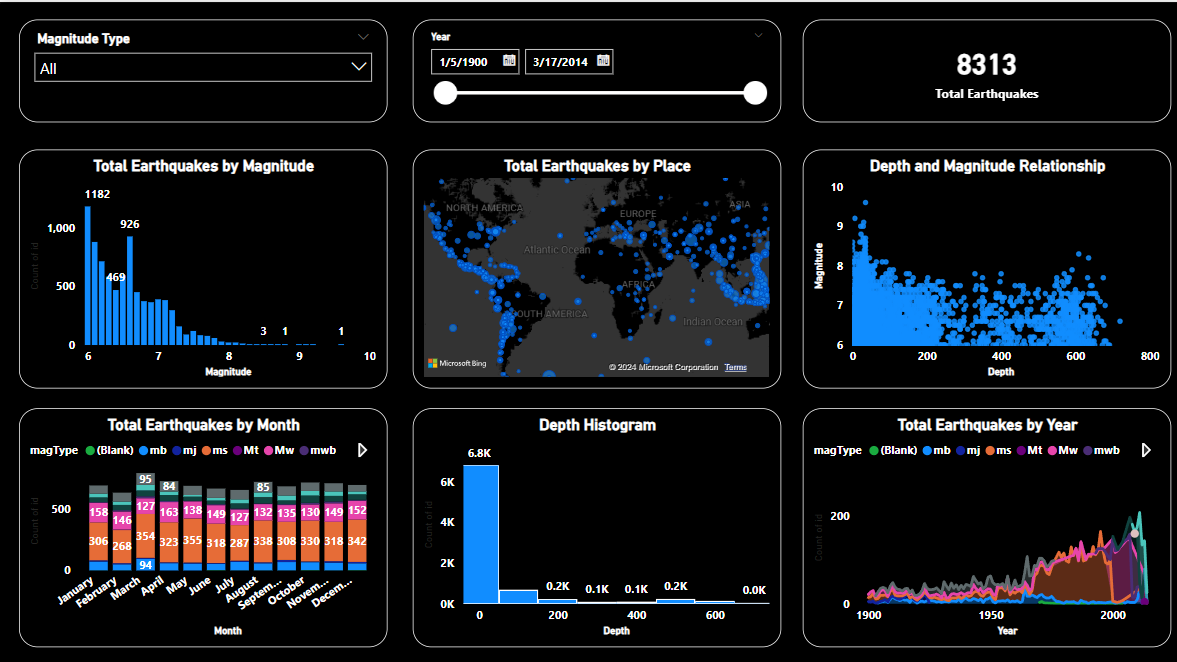

This screenshot's page, from the dashboard's own definition file:
{"tool":"powerbi","page":{"name":"Page 1","canvas":[1280,720],"ordinal":0},"visuals":[{"type":"slicer","fields":{"Values":["query.magType"]},"box":[21.7,19.3,398.1,111],"z":0},{"type":"slicer","fields":{"Values":["query.Date"]},"box":[447.6,19.3,398.1,111],"z":1000},{"type":"card","fields":{"Values":["CountNonNull(query.id)"]},"box":[868.6,19.3,398.1,111],"z":2000},{"type":"clusteredColumnChart","title":"Total Earthquakes by Magnitude","fields":{"Y":["CountNonNull(query.id)"],"Category":["query.mag"]},"box":[21.7,159.3,398.1,258.2],"z":2001},{"type":"columnChart","title":"Total Earthquakes by Month","fields":{"Category":["query.Date.Variation.Date Hierarchy.Month"],"Y":["CountNonNull(query.id)"],"Series":["query.magType"]},"box":[21.7,439.1,398.1,258.2],"z":2002},{"type":"stackedAreaChart","title":"Total Earthquakes by Year","fields":{"Category":["query.Date.Variation.Date Hierarchy.Year"],"Y":["CountNonNull(query.id)"],"Series":["query.magType"]},"box":[868.6,439.1,398.1,258.2],"z":2003},{"type":"clusteredColumnChart","title":"Depth Histogram","fields":{"Y":["CountNonNull(query.id)"],"Category":["query.depth (bins)"]},"box":[447.6,439.1,398.1,258.2],"z":2004},{"type":"scatterChart","title":"Depth and Magnitude Relationship","fields":{"X":["query.depth"],"Y":["query.mag"]},"box":[868.6,159.3,398.1,258.2],"z":2005},{"type":"map","title":"Total Earthquakes by Place","fields":{"Size":["CountNonNull(query.id)"],"Category":["query.place"]},"box":[447.6,159.3,398.1,258.2],"z":2006}]}

Visuals, with their boxes in screenshot pixels (x1, y1, x2, y2), scaled from the page's 1280x720 canvas onto the 1177x662 screenshot:
slicer - query.magType: [20,18,386,120]
slicer - query.Date: [412,18,778,120]
card - CountNonNull(query.id): [799,18,1165,120]
"Total Earthquakes by Magnitude" clusteredColumnChart: [20,146,386,384]
"Total Earthquakes by Month" columnChart: [20,404,386,641]
"Total Earthquakes by Year" stackedAreaChart: [799,404,1165,641]
"Depth Histogram" clusteredColumnChart: [412,404,778,641]
"Depth and Magnitude Relationship" scatterChart: [799,146,1165,384]
"Total Earthquakes by Place" map: [412,146,778,384]
